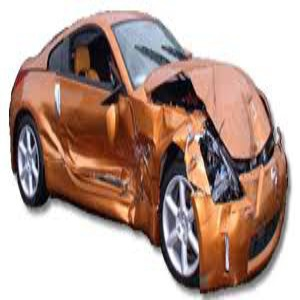bonnet: (176, 61, 267, 147)
bumper: (187, 180, 266, 287)
door: (51, 107, 151, 191)
